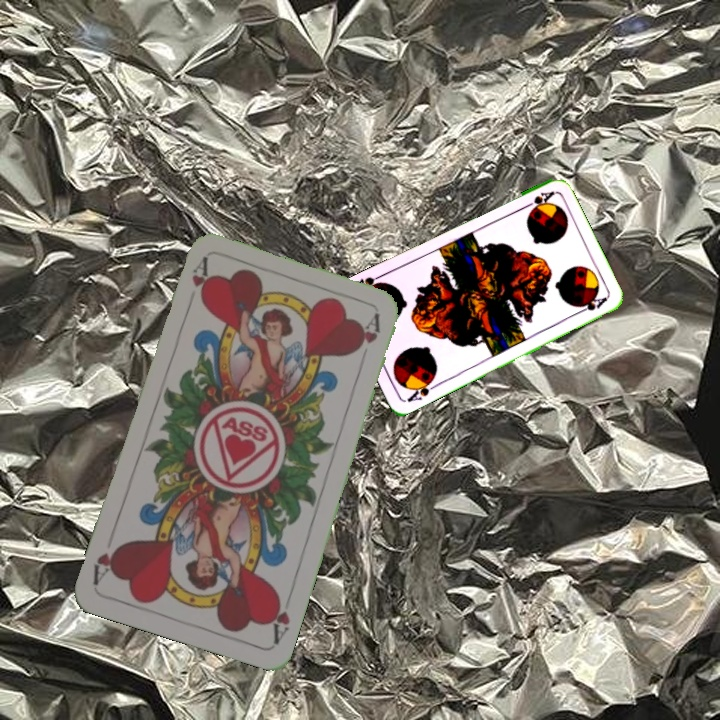HA: (264, 588, 293, 646), (182, 255, 211, 313)
SA: (403, 374, 441, 405), (518, 187, 557, 214)
